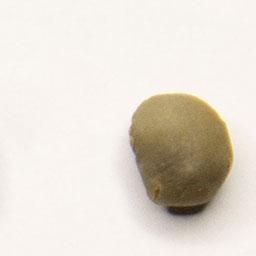peaberry: (125, 86, 238, 215)
